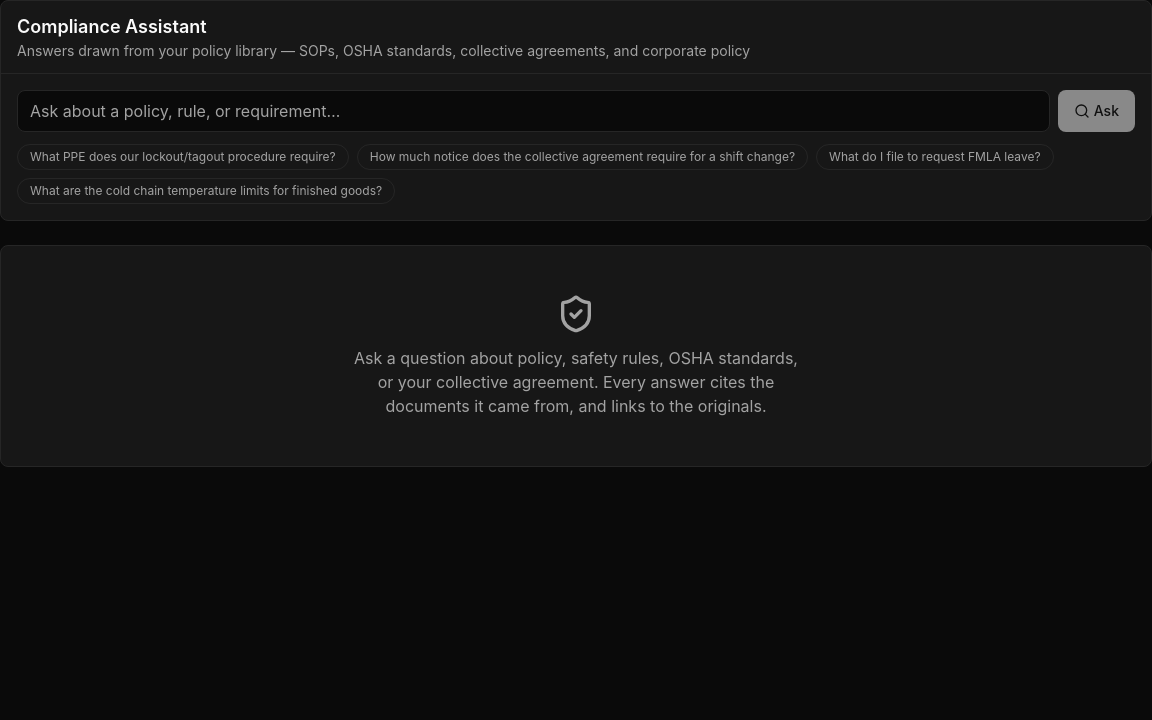
Scenario: Compliance Assistant › opening a document › offers no Open button for a passage with no stored blob
Type "lockout procedure" into the field named "Compliance question". click: (533, 111)
box: [17, 90, 1050, 132]
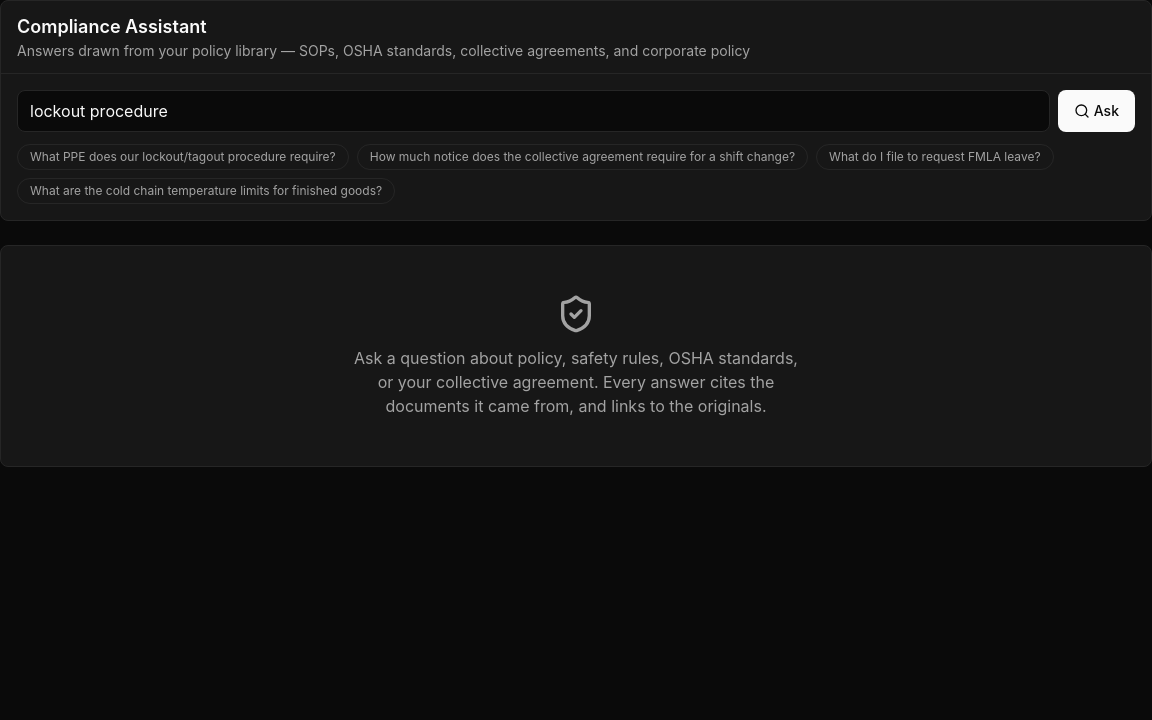
Click the button "Ask". click: (1096, 111)
box: [1058, 90, 1135, 132]
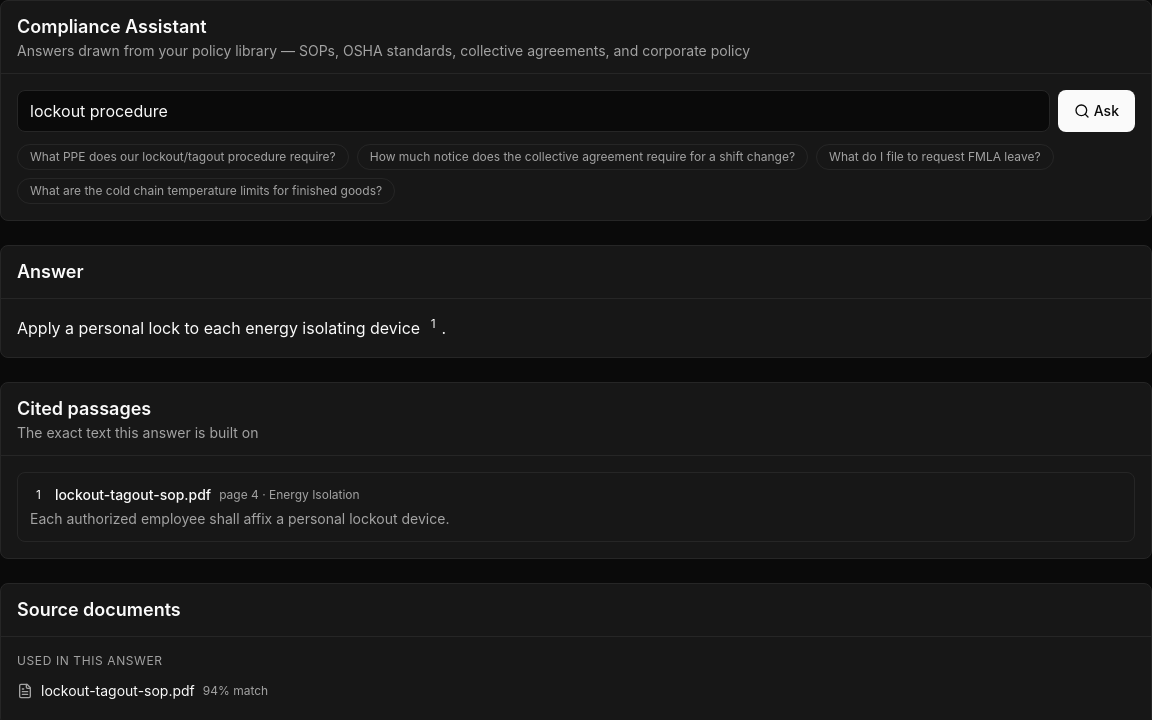
Expected: the heading "Answer" is shown, [17, 258, 84, 286]
